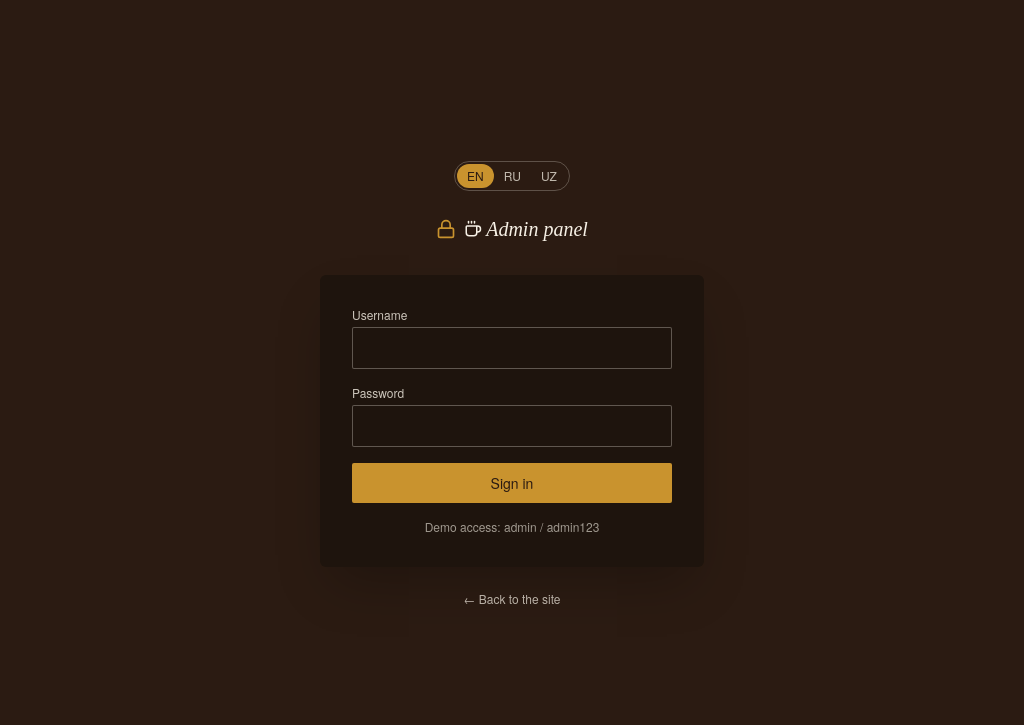
Admin panel › marks messages as read
The width and height of the screenshot is (1024, 725).
Check: the heading "Admin panel" is shown, box [464,215,588,243]
In the field labelled "Username": point(512, 348) [352,327,672,369], type "admin"
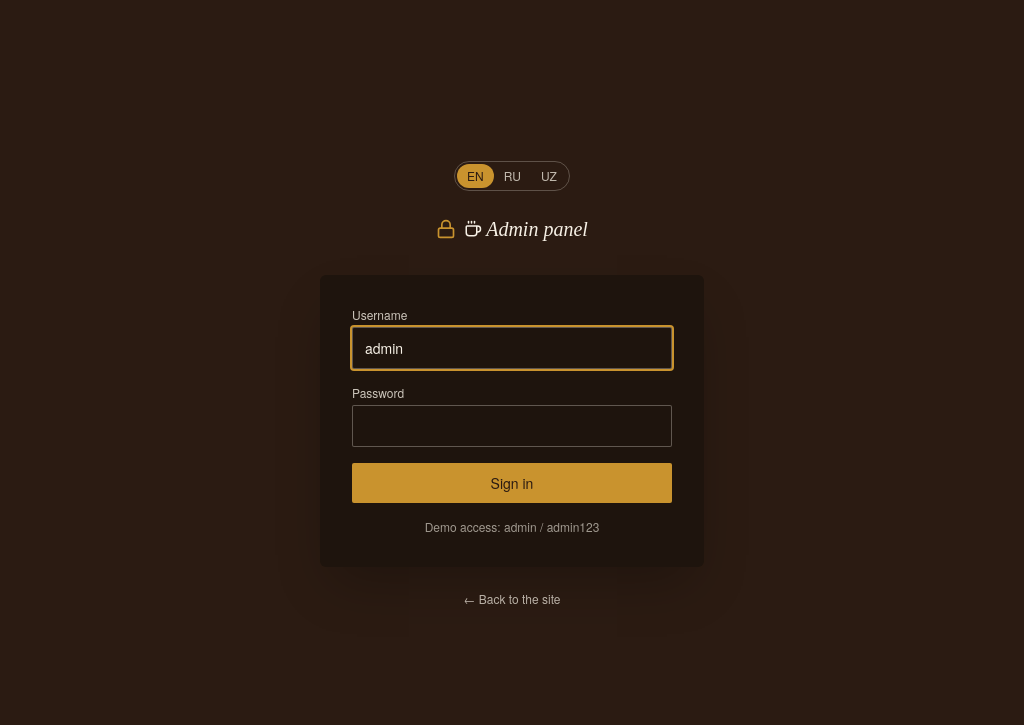
In the password field labelled "Password": point(512, 426) [352,405,672,447], type "admin123"
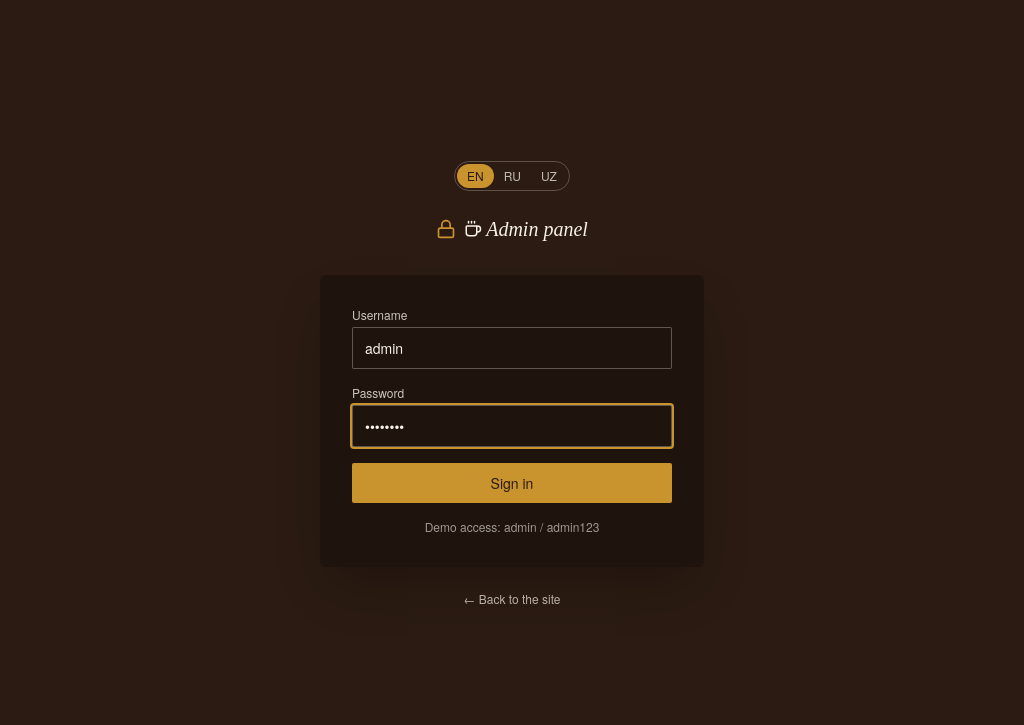
Click the button "Sign in": point(512, 483) [352,463,672,503]
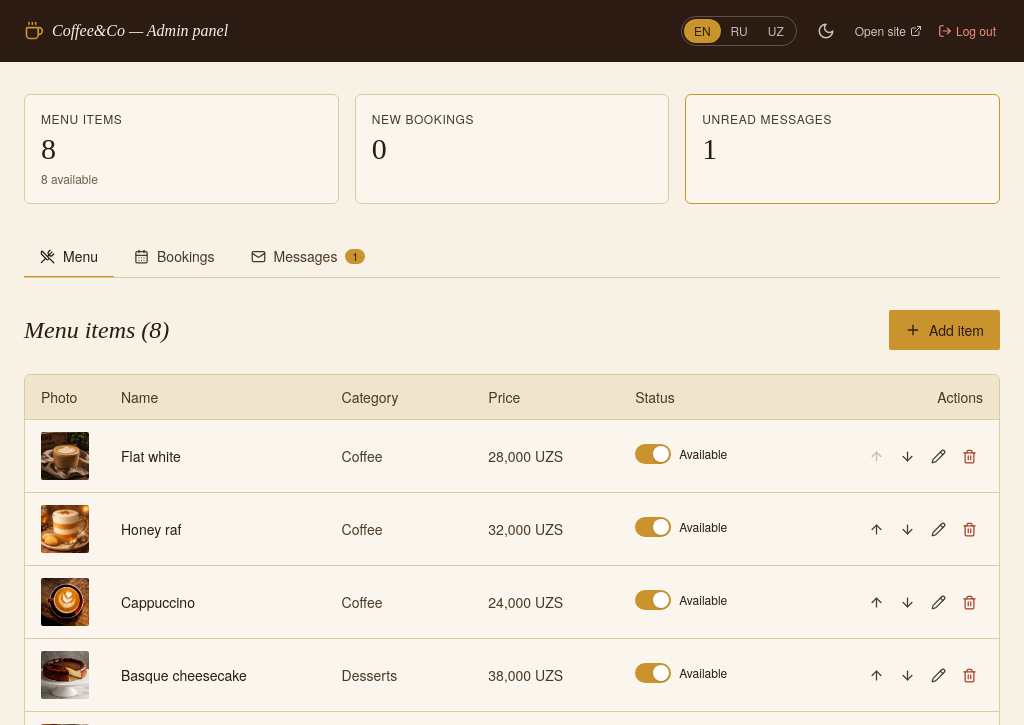
Check: the heading "Menu items (8)" is shown, box [24,314,169,346]
Click the link "Messages 1": point(308, 256) [251,246,365,266]
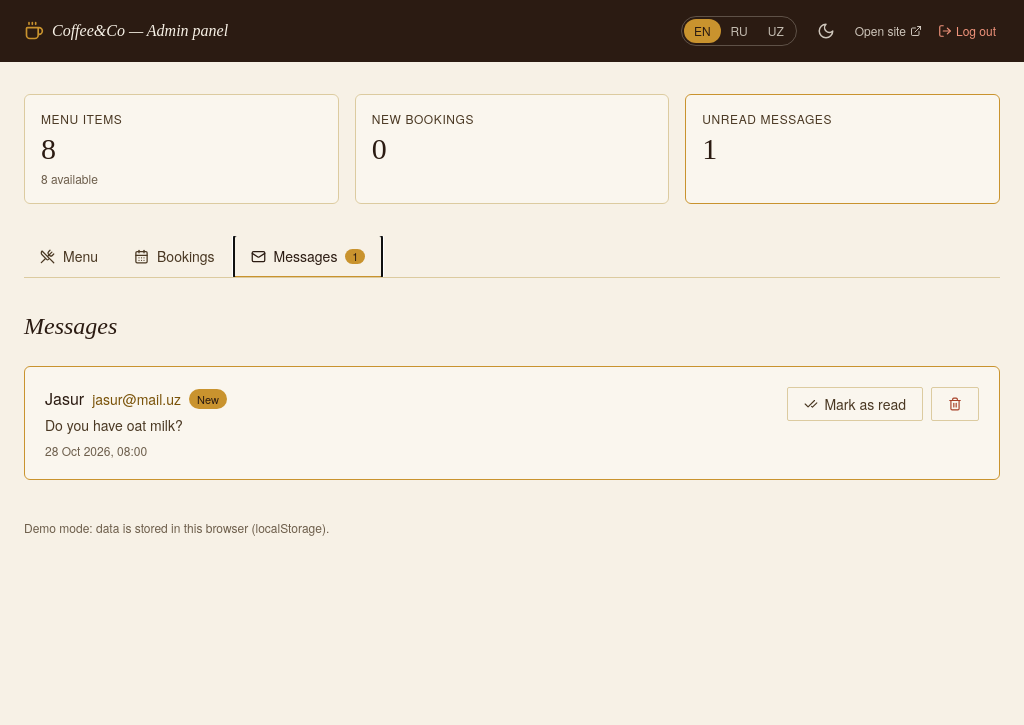
Check: the heading "Messages" is shown, box [24,313,117,339]
Click the button "Mark as read": point(855, 404) [787,387,923,421]
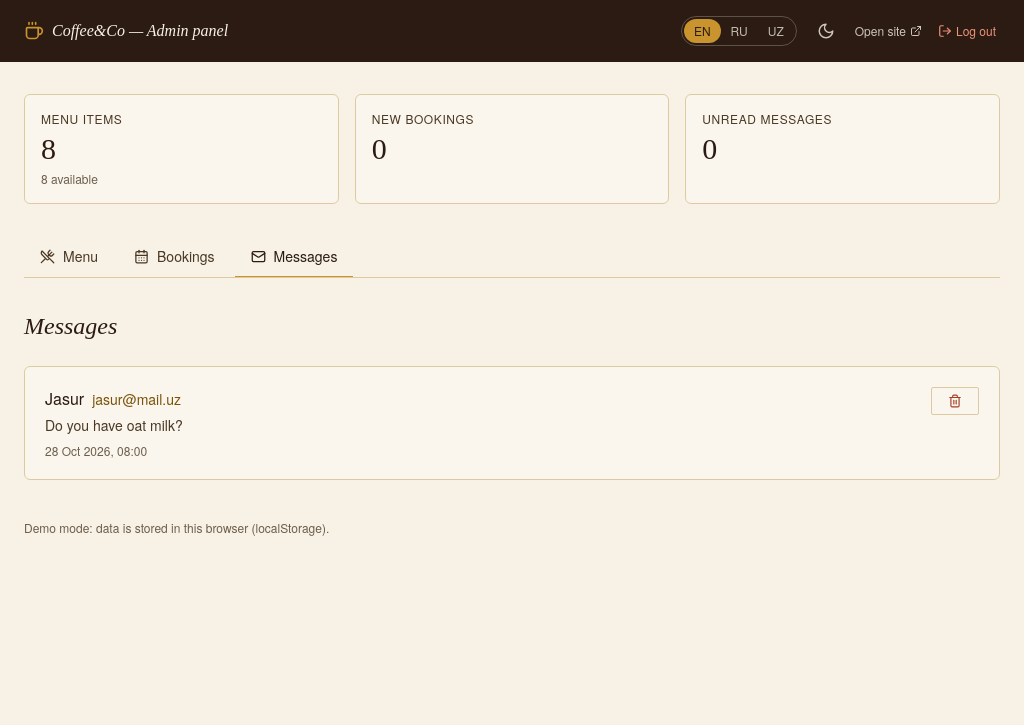
Check: the button "Mark as read" is gone
